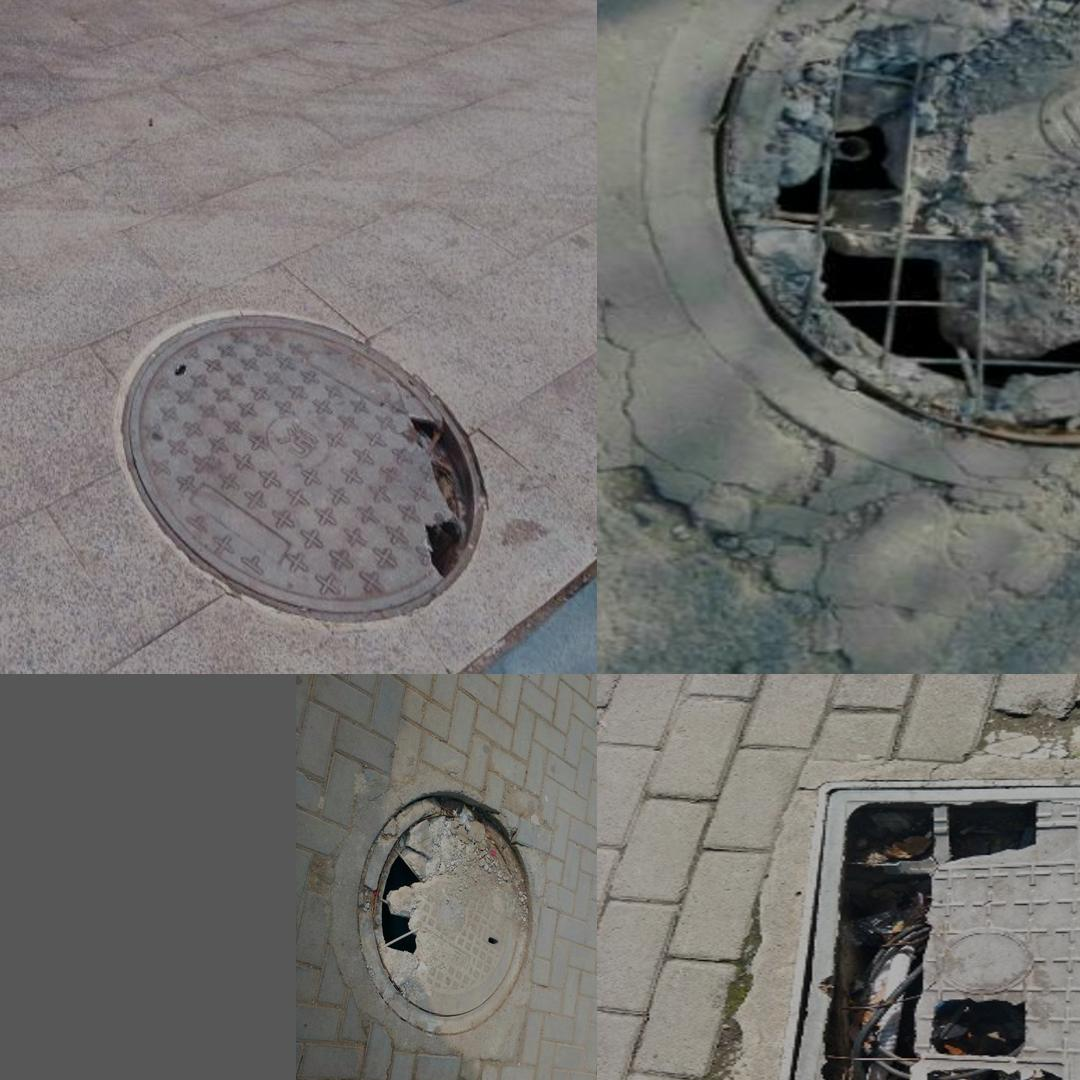broke: (641, 0, 1080, 490), (129, 316, 491, 608), (770, 777, 1080, 1080), (350, 773, 533, 1059)
